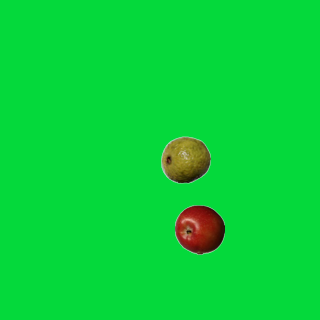Apple Braeburn: (174, 204, 224, 254)
Guava: (160, 134, 210, 184)
